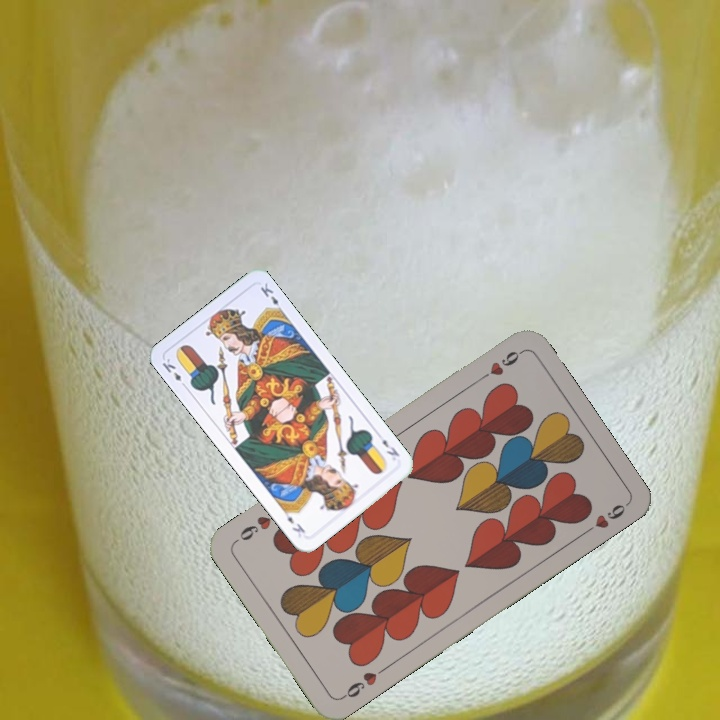EK: (158, 354, 190, 391), (378, 435, 402, 459)
H9: (472, 346, 525, 385), (337, 663, 389, 702)
